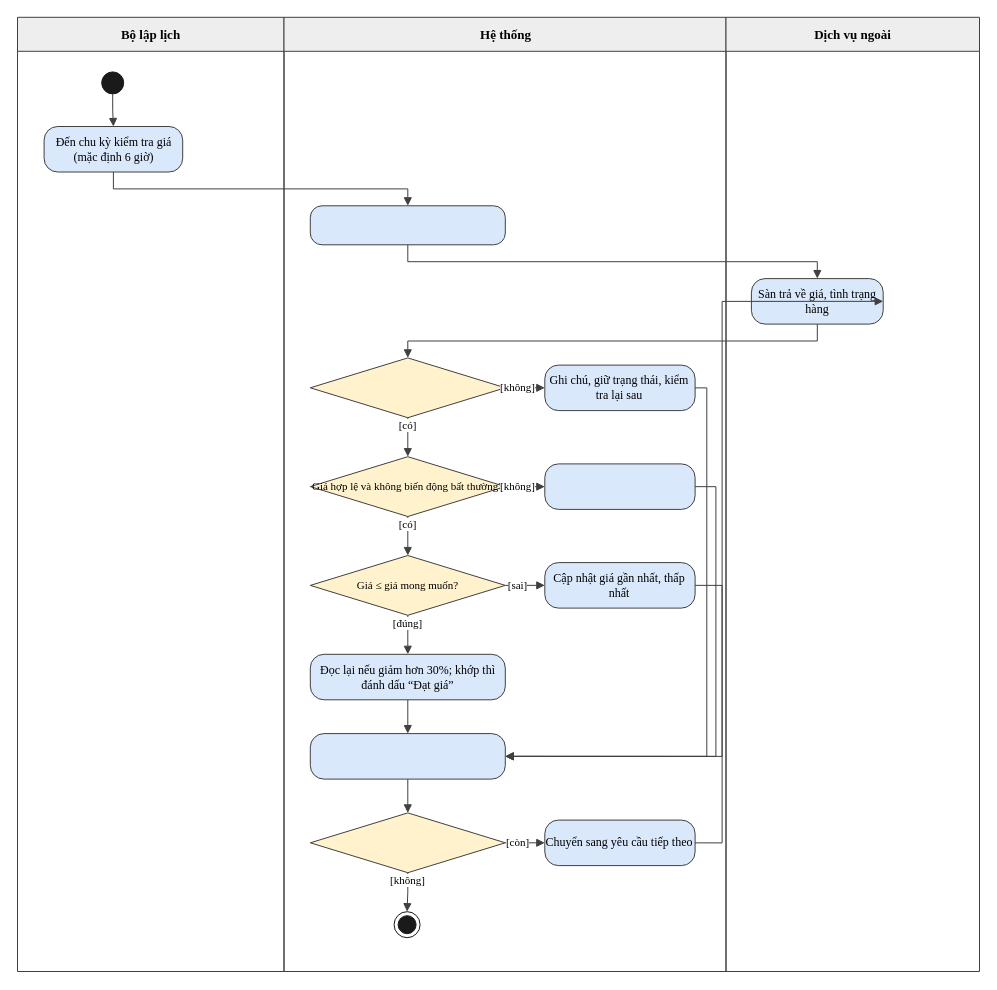
Image size: 997x990. Some labels were removed from this diagram. Here are the shapes that lost their labels. From the top down, the centre of each, then its label:
At pixel 407 225: "Lấy các yêu cầu đang theo dõi".
At pixel 407 387: "Đọc được giá và còn hàng?".
At pixel 619 486: "Bỏ qua hoặc chờ lần đọc sau xác nhận".
At pixel 407 756: "Ghi lịch sử giá và nhật ký price_checks".
At pixel 407 842: "Còn yêu cầu khác?".
